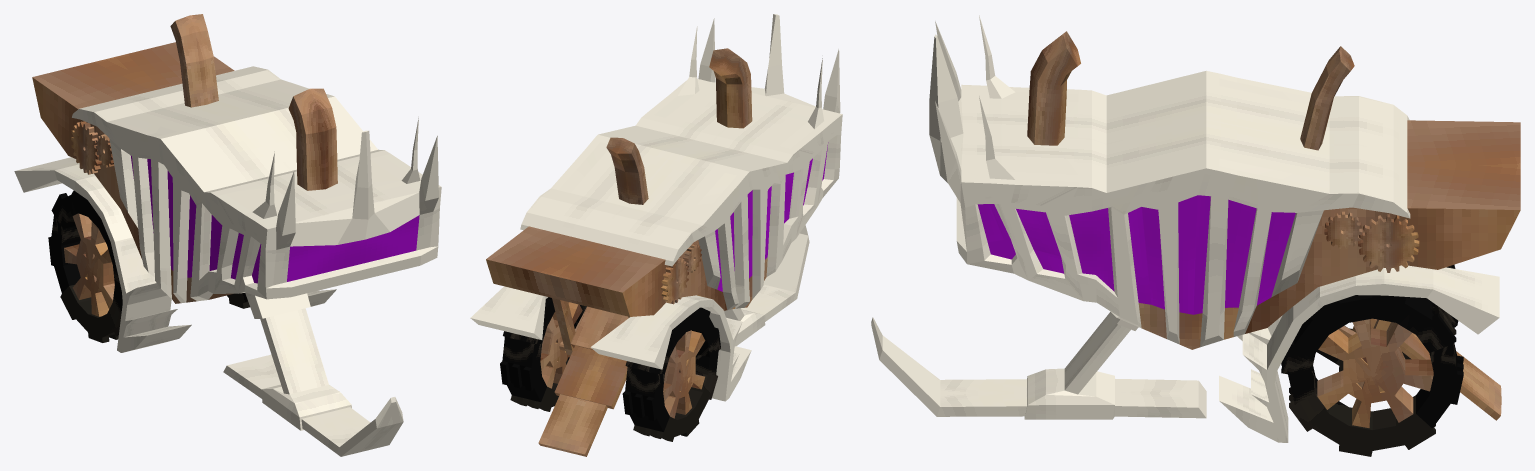
File: TheVehicle.glb
The picture shows the model from 3 angles, left to right: view 1: azimuth 30°, elevation 25°; view 2: azimuth 150°, elevation 25°; view 3: azimuth 270°, elevation 25°; orthographic projection. The views are drawn at different scales.
Parts seen in each view (by area): view 1: Cube; view 2: Cube; view 3: Cube.
Part boxes in pixels (x1,y1,x2,y2): Cube: (14,14,441,456); Cube: (470,14,842,456); Cube: (871,15,1520,456).
Size of the model in its own units: 7.81 by 11.54 by 18.15.
1 material, 1 textured.
